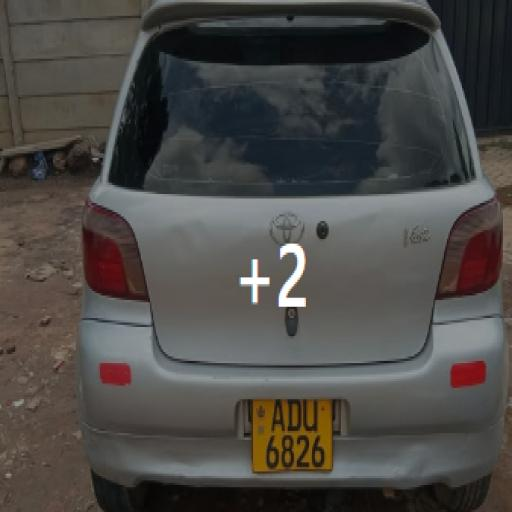number-plates: (250, 395, 328, 472)
